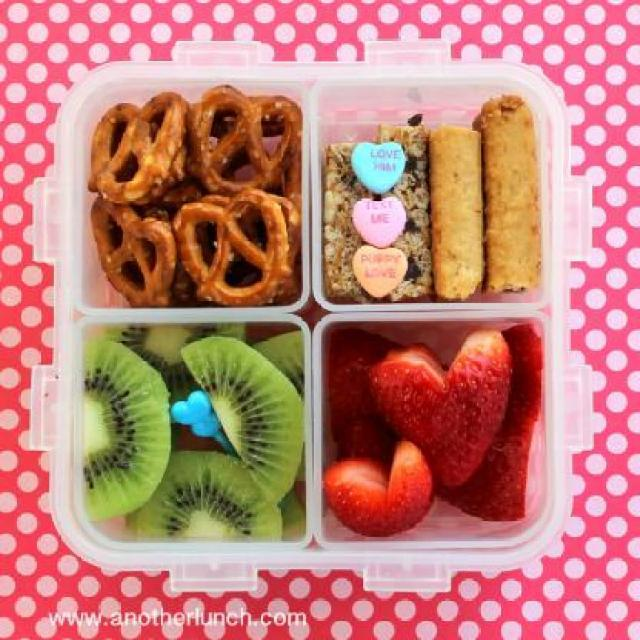Salatini packaged: (85, 84, 301, 308)
